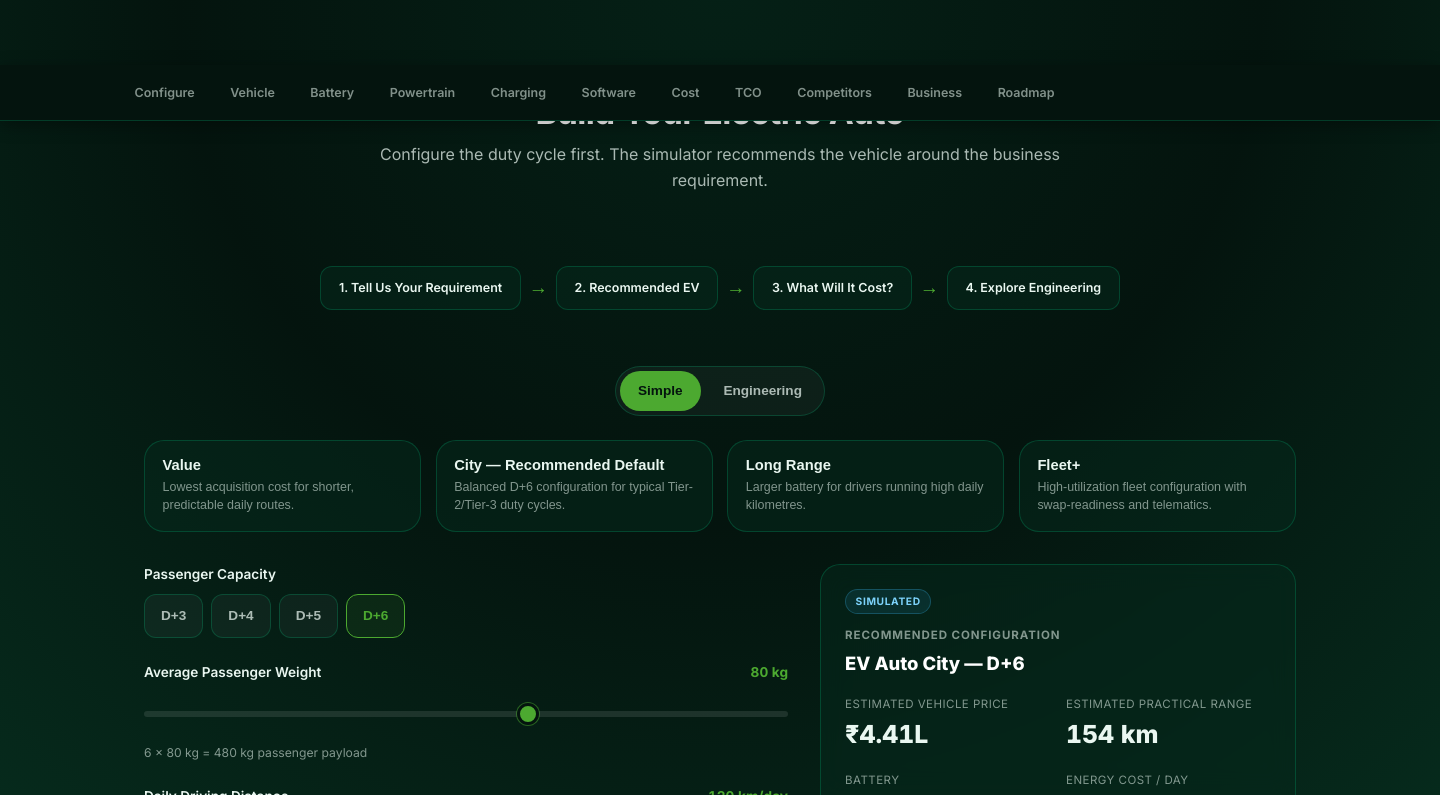
Test: Concept Engineering Drawing — dimension controls › flags a dimension warning for an obviously too-short wheelbase at D+6
(page scrolled)
Click the button "Engineering" at (763, 391), box [705,371,820,411]
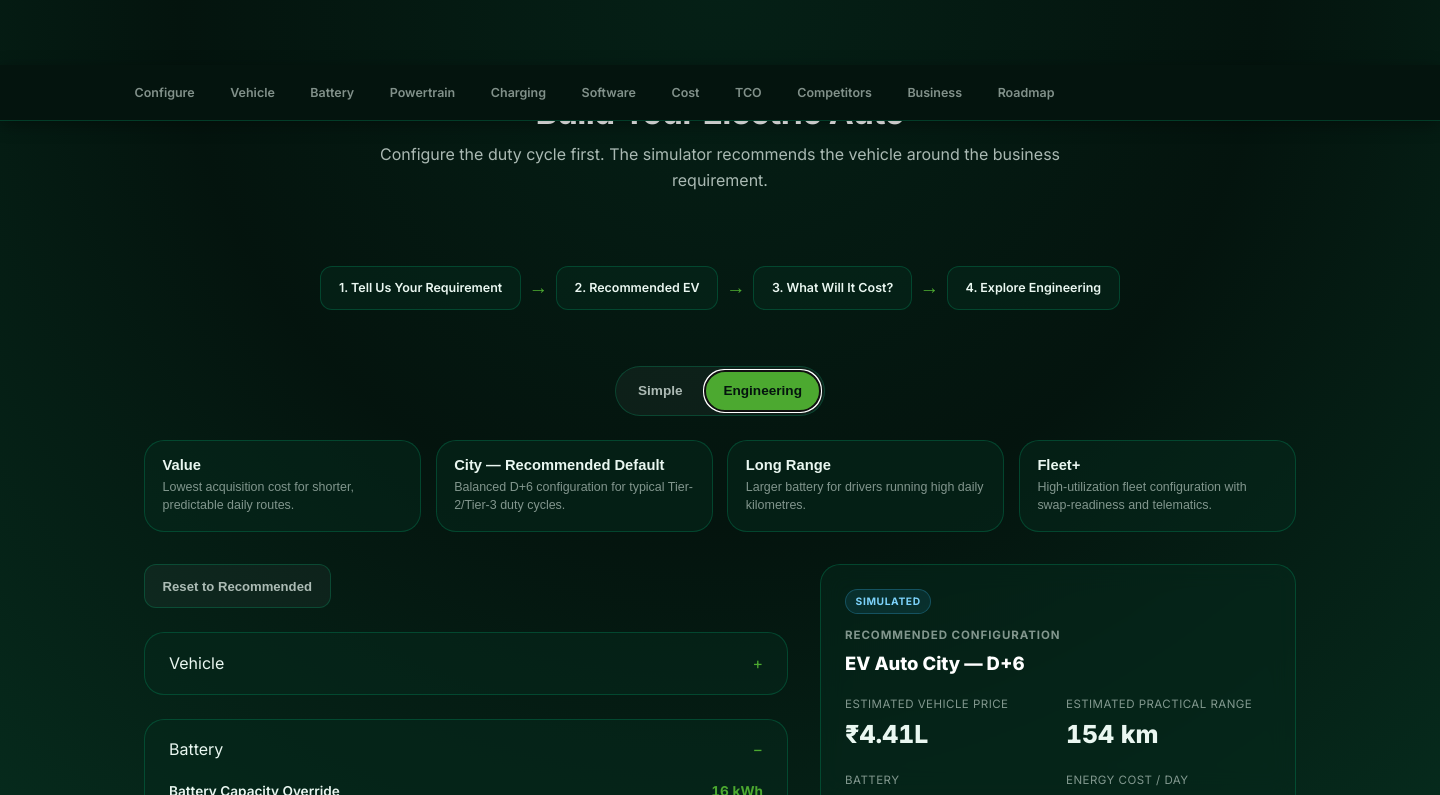
Note: Open the Vehicle group where dimension overrides live.
Click the button "Vehicle +" at (197, 663), box [145,633,787,694]
(page scrolled)
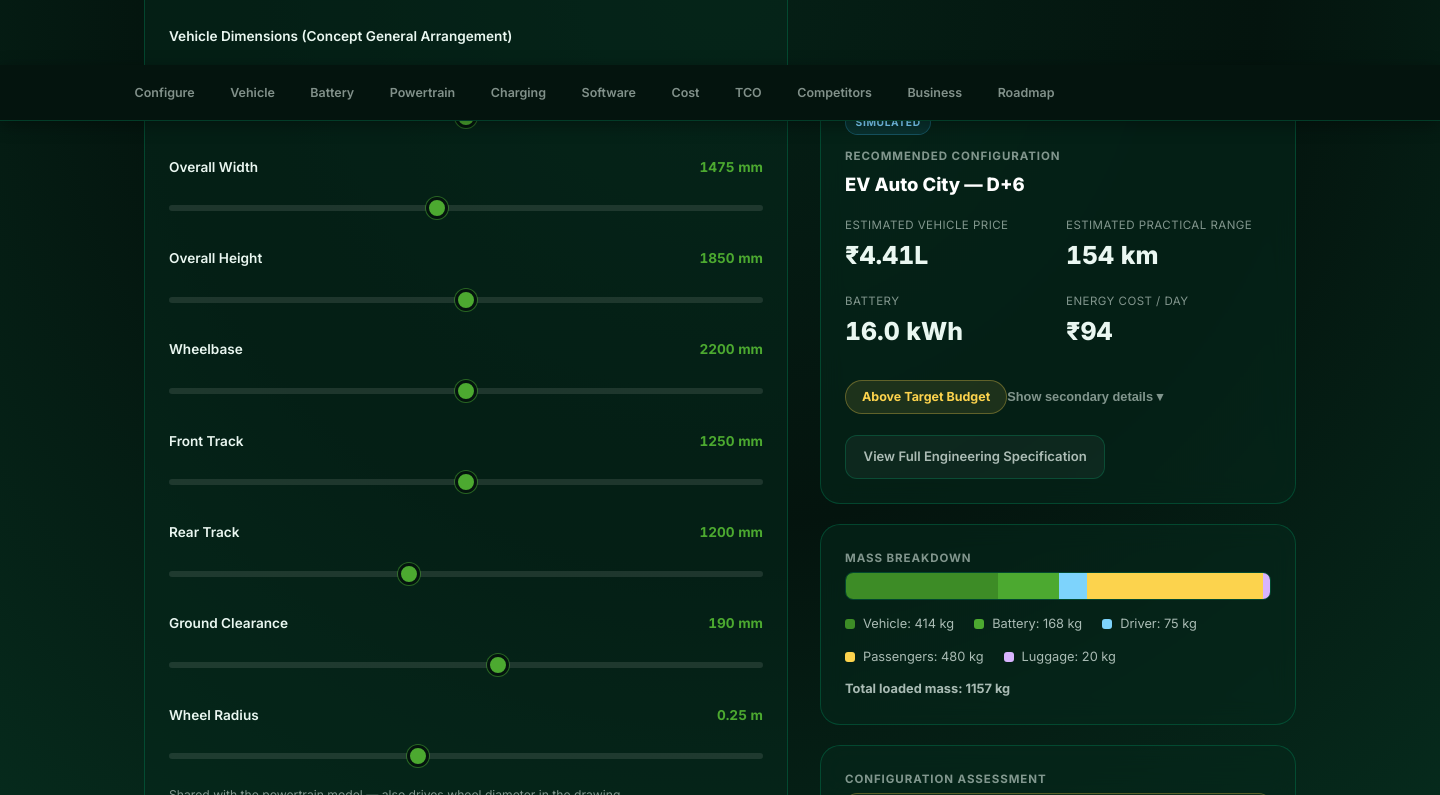
Set the slider named "Wheelbase" to "1900" at (177, 391), box [169,369,763,413]
(page scrolled)
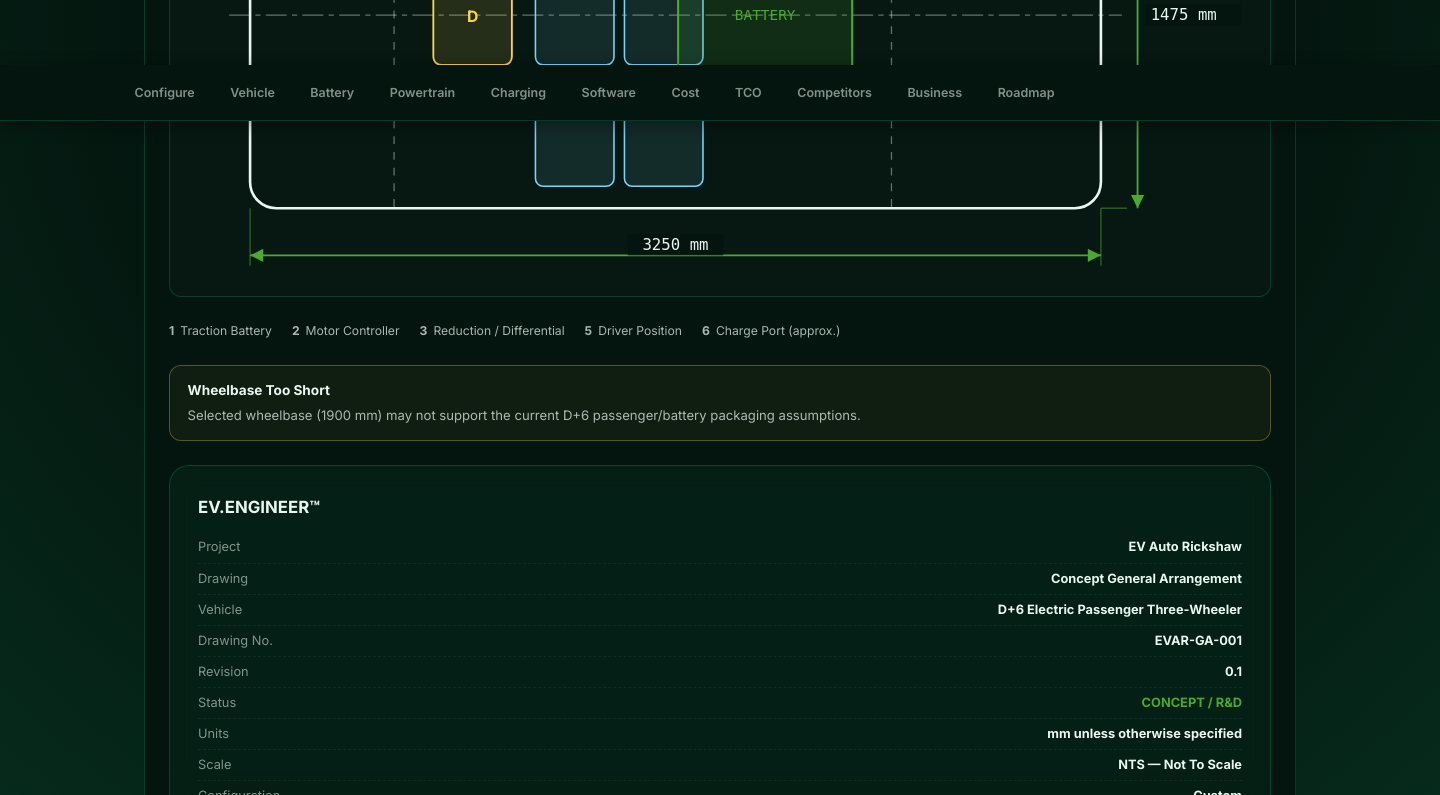
Expected: the text "Wheelbase Too Short" is shown, [188,382,330,398]
